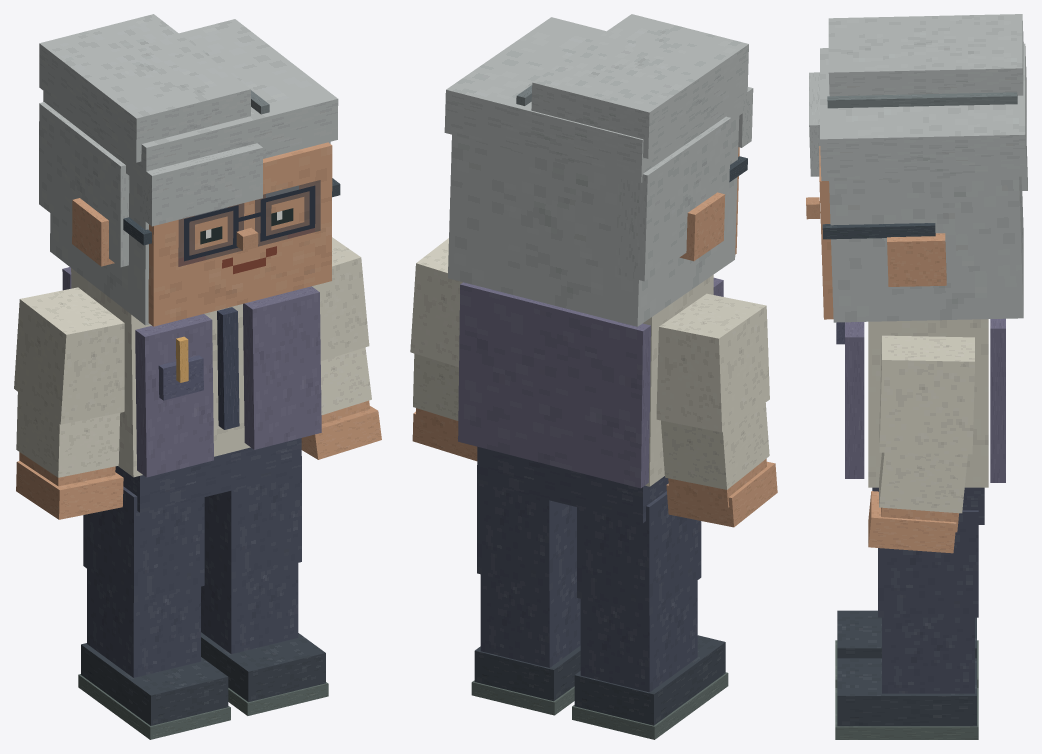
The picture shows the model from 3 angles, left to right: view 1: azimuth 30°, elevation 25°; view 2: azimuth 150°, elevation 25°; view 3: azimuth 270°, elevation 25°; orthographic projection. The views are drawn at different scales.
Visible parts, largest first — view 1: hair:sidepart, outfit:vest, object 6, object 14, object 22, object 23, object 26, object 27, object 24, object 1, object 13, object 17 (+11 smaller); view 2: hair:sidepart, outfit:vest, object 5, object 14, object 22, object 23, object 26, object 27, object 1, object 17, object 24, object 18 (+10 smaller); view 3: hair:sidepart, object 5, object 18, object 26, object 27, object 2, object 28, outfit:vest, object 21, object 20, object 8, object 24 (+5 smaller).
Part boxes in pixels (x1,y1,x2,y2): hair:sidepart: [39, 14, 338, 267]; outfit:vest: [62, 267, 321, 477]; object 6: [148, 142, 332, 326]; object 14: [14, 287, 124, 424]; object 22: [83, 486, 204, 602]; object 23: [87, 569, 200, 677]; object 26: [204, 456, 301, 578]; object 27: [201, 560, 298, 653]; object 24: [81, 643, 228, 725]; object 1: [115, 438, 301, 512]; object 13: [178, 180, 320, 274]; object 17: [16, 392, 120, 477]; hair:sidepart: [444, 14, 753, 281]; outfit:vest: [458, 277, 723, 488]; object 5: [448, 116, 739, 326]; object 14: [656, 293, 769, 432]; object 22: [577, 491, 701, 615]; object 23: [580, 580, 697, 692]; object 26: [477, 465, 576, 590]; object 27: [480, 571, 580, 667]; object 1: [477, 446, 668, 522]; object 17: [661, 402, 769, 489]; object 24: [574, 635, 725, 725]; object 18: [410, 238, 462, 367]; hair:sidepart: [809, 14, 1027, 190]; object 5: [829, 176, 1023, 322]; object 18: [879, 335, 974, 454]; object 26: [878, 510, 978, 617]; object 27: [882, 617, 974, 693]; object 2: [868, 319, 988, 487]; object 28: [837, 658, 976, 726]; outfit:vest: [836, 318, 1005, 482]; object 21: [879, 452, 967, 513]; object 20: [868, 491, 956, 553]; object 8: [887, 233, 946, 286]; object 24: [837, 610, 976, 658].
Bounding box in the file's own units: 1.05 × 2 × 0.6346.
14 materials, 14 textured.
